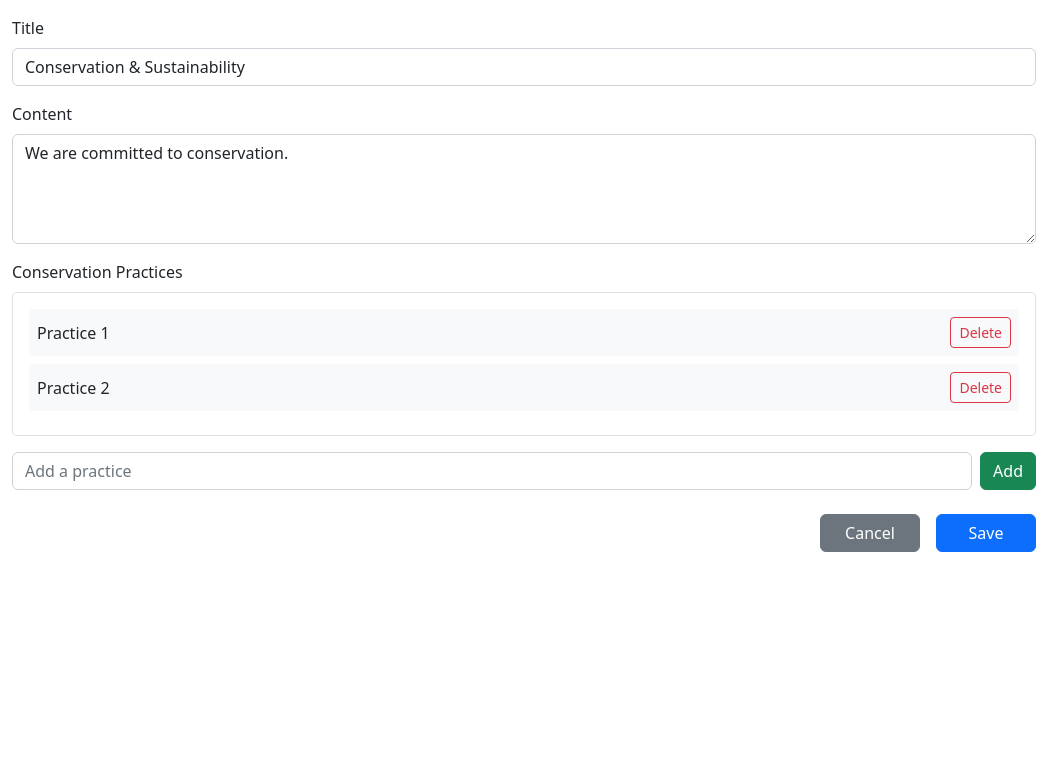
Test: ConservationForm › should add new practice when add button clicked
Type "Practice 3" into the field with placeholder "Add a practice".
click(492, 471); type("Practice 3")  # box [12,452,972,490]
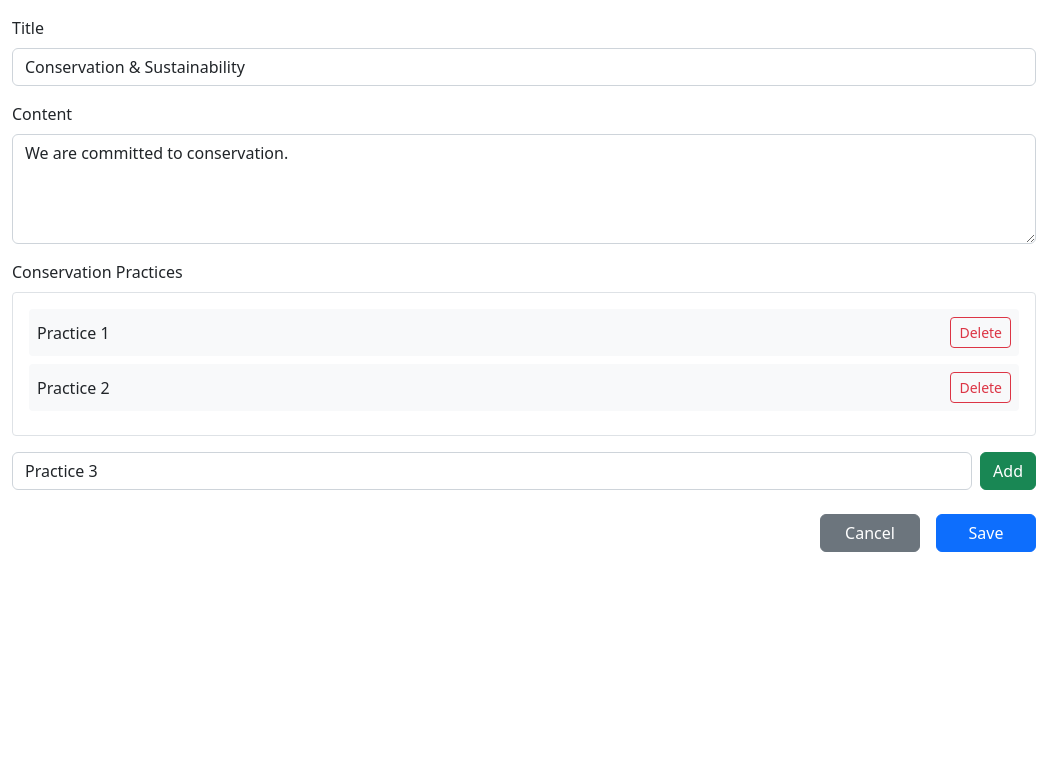
Click the button "Add".
click(1008, 471)  # box [980,452,1036,490]
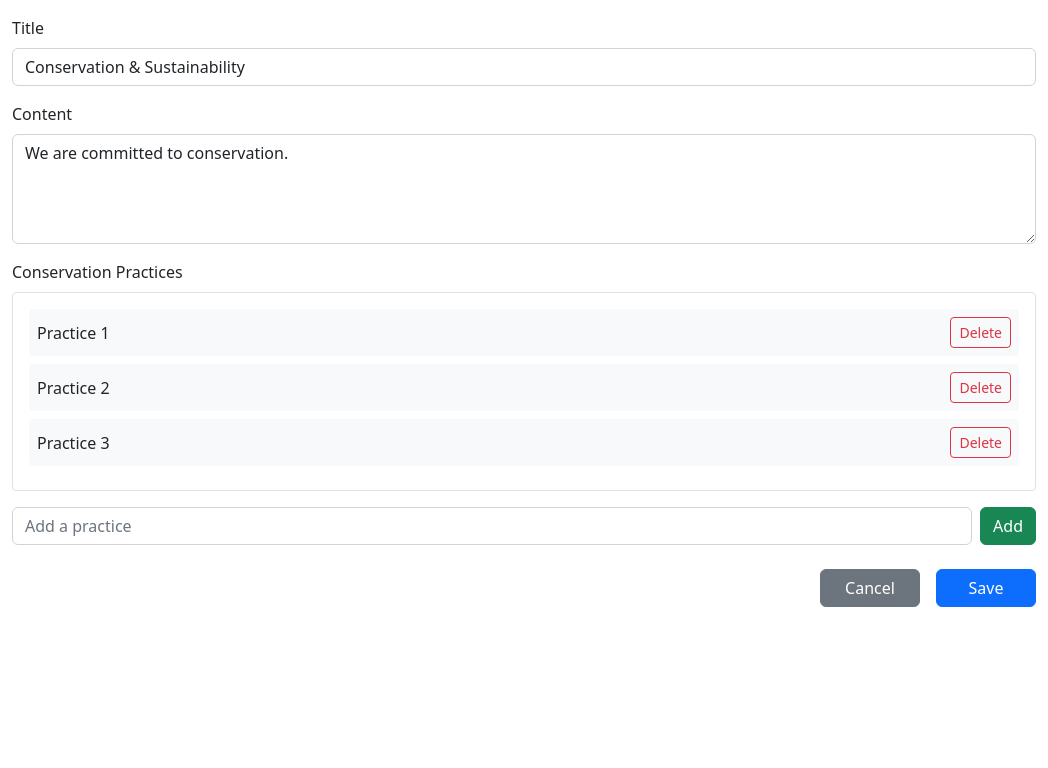
expect the text "Practice 3" is shown: met, box [37,432,110,454]
